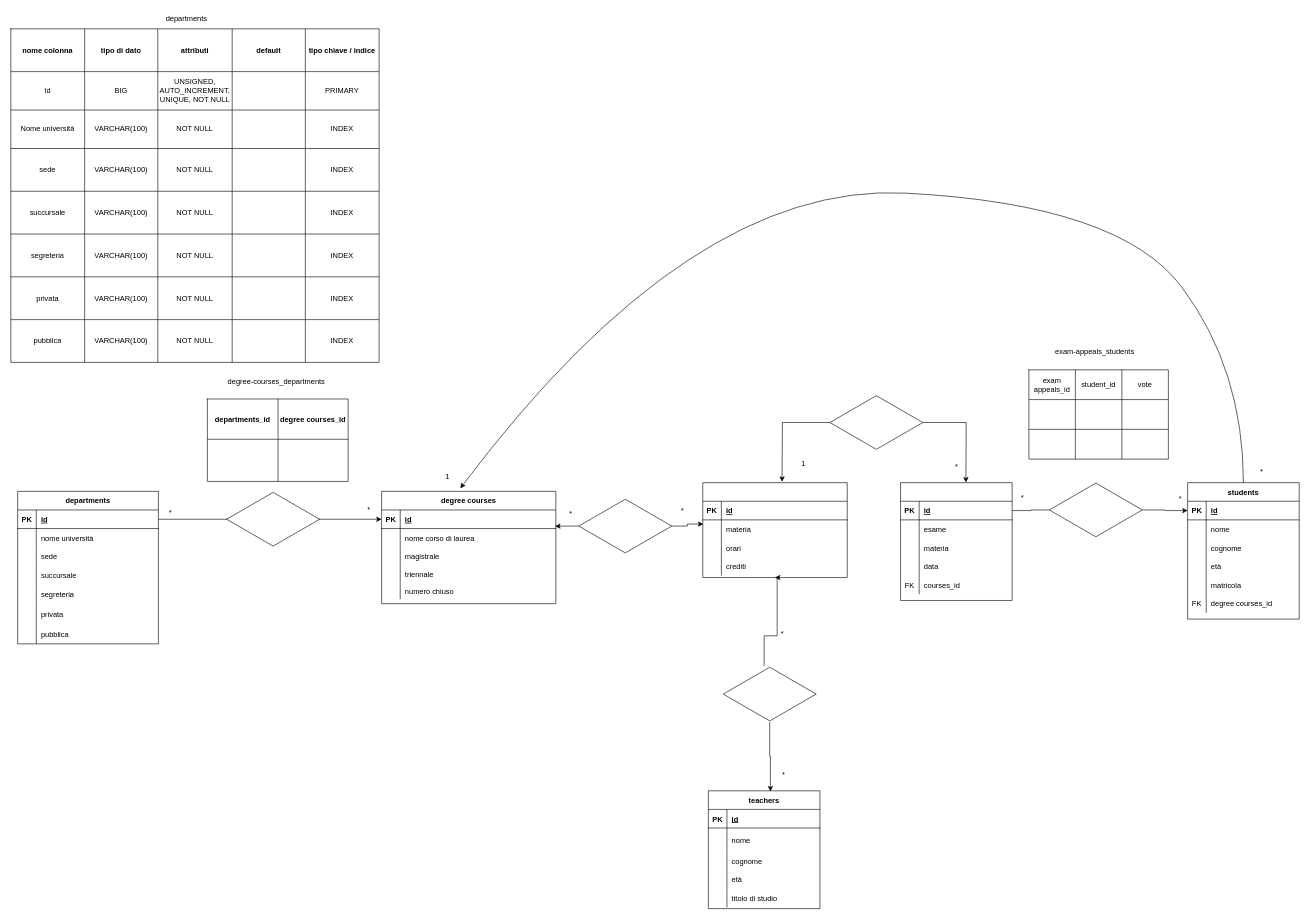
This 1310x919 diagram has some shape labels left out. Each missing label, with the box of its shape:
courses: (702, 482, 847, 578)
exam appeals: (900, 482, 1012, 600)
